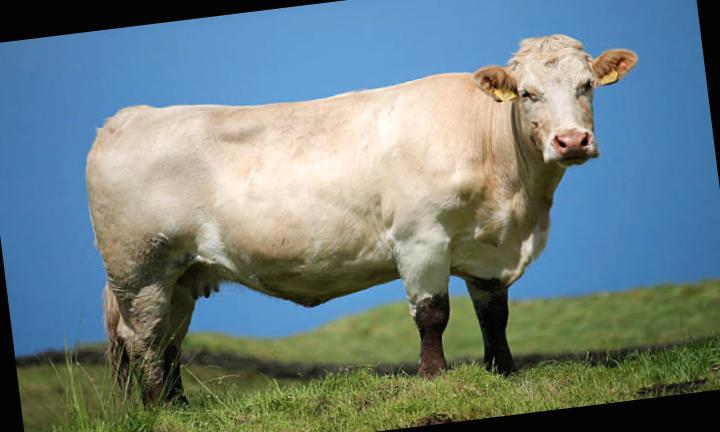Charolais: (86, 35, 636, 400)
